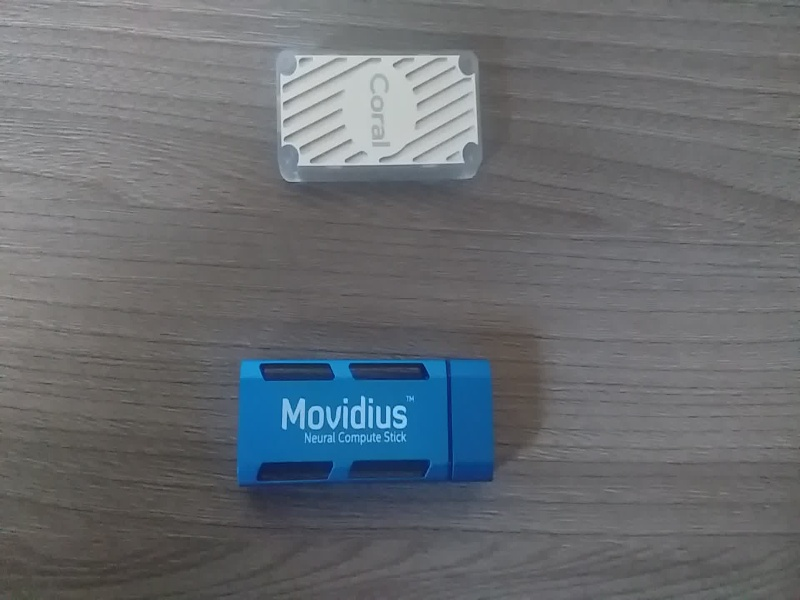coral: (268, 43, 496, 197)
movidius: (226, 351, 506, 494)
